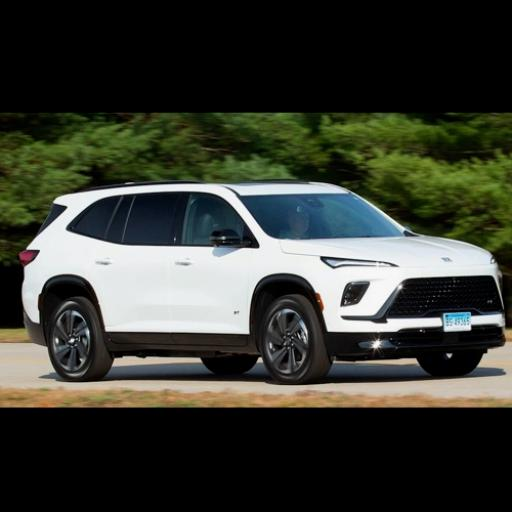suv: (19, 181, 505, 383)
